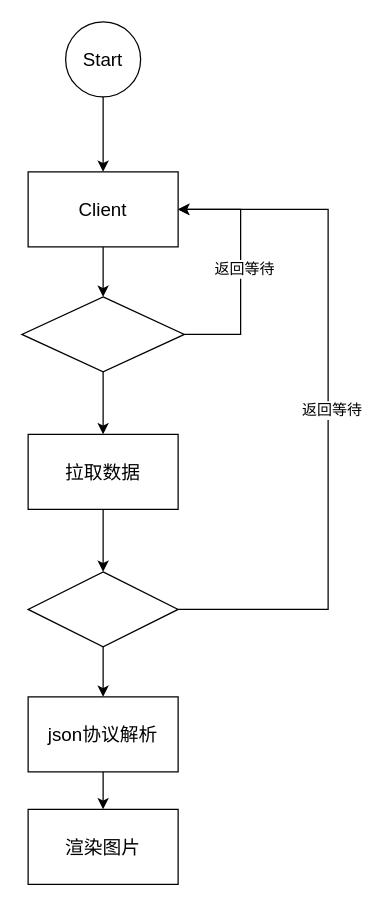
Some shapes in this 383 by 906 pixel diagram are drawn without their labels. Each missing label, with the centre of its shape:
"拉取成功？" goes at [102,609].
"是否达到拉取间隔" goes at [102,334].
